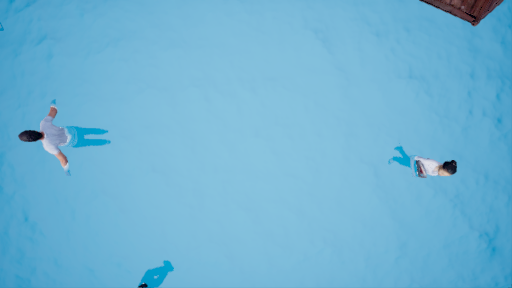person: (17, 103, 116, 173), (388, 149, 463, 192)
